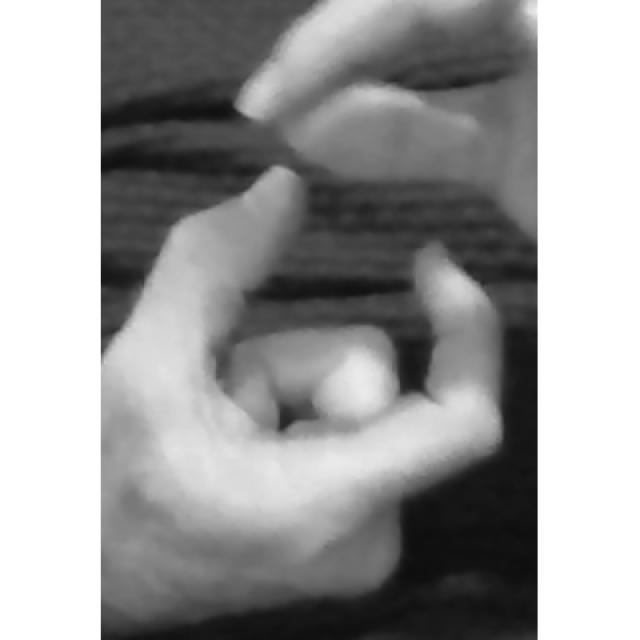U--: (102, 0, 539, 627)
